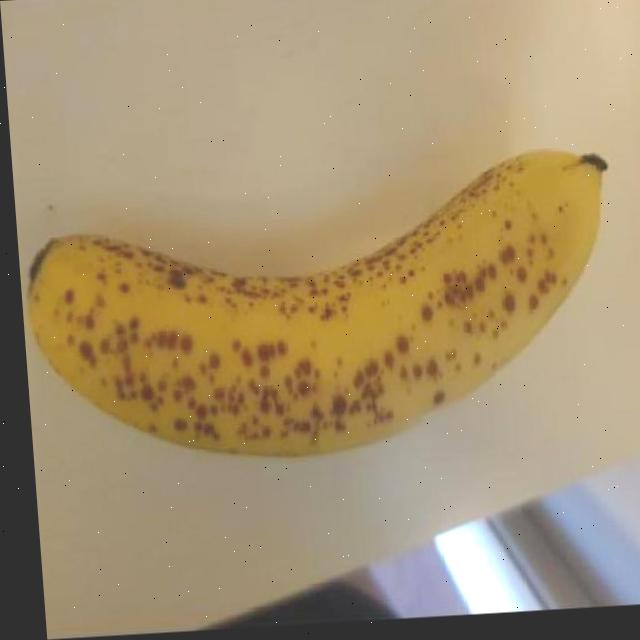banana: (13, 138, 629, 475)
